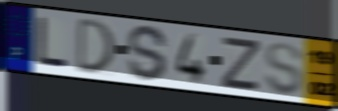4: (175, 32, 207, 86)
D: (75, 16, 117, 75)
L: (36, 15, 70, 69)
S: (126, 23, 169, 83), (262, 40, 305, 97)
Z: (219, 37, 263, 94)
